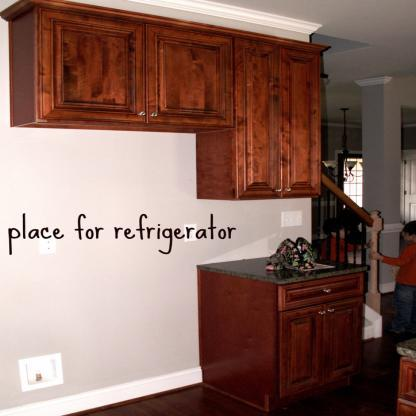door: (403, 152, 415, 237)
hinged: (403, 220, 406, 226), (404, 159, 406, 165), (404, 190, 406, 195)
